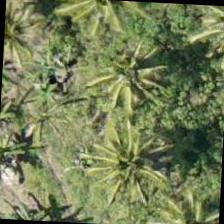Kelapa_Sawit: (88, 34, 183, 128), (81, 116, 176, 210), (153, 180, 220, 223)
